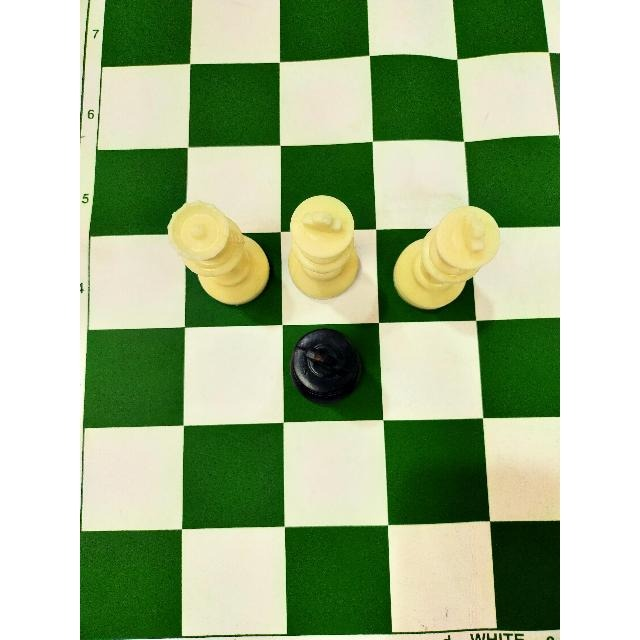black-king: (285, 327, 372, 406)
white-king: (392, 196, 504, 316), (283, 185, 369, 305)
white-queen: (158, 200, 273, 306)
